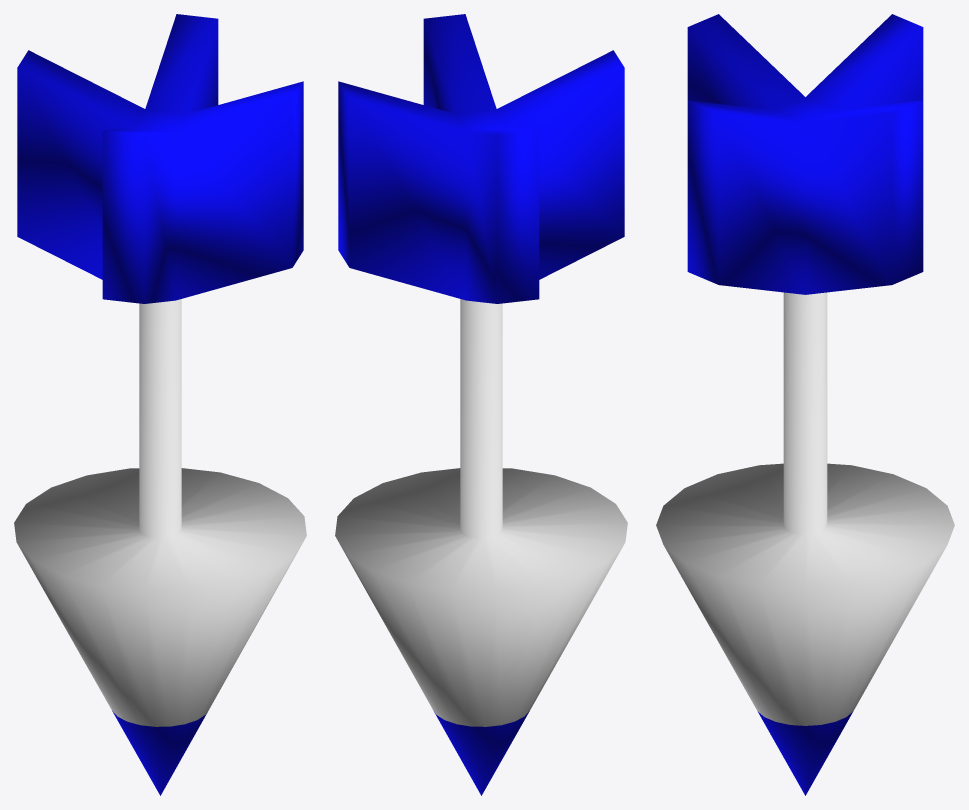
The model's file is arrow.glb.
3 renders of one model, left to right at view 1: azimuth 30°, elevation 25°; view 2: azimuth 150°, elevation 25°; view 3: azimuth 270°, elevation 25°, orthographic.
Visible parts, largest first — view 1: arrow; view 2: arrow; view 3: arrow.
Part boxes in pixels (x1=…): arrow: x1=14, y1=14, x2=306, y2=795; arrow: x1=335, y1=14, x2=627, y2=795; arrow: x1=656, y1=14, x2=954, y2=795.
Size of the model in its own units: 0.016 by 0.0432 by 0.016.
